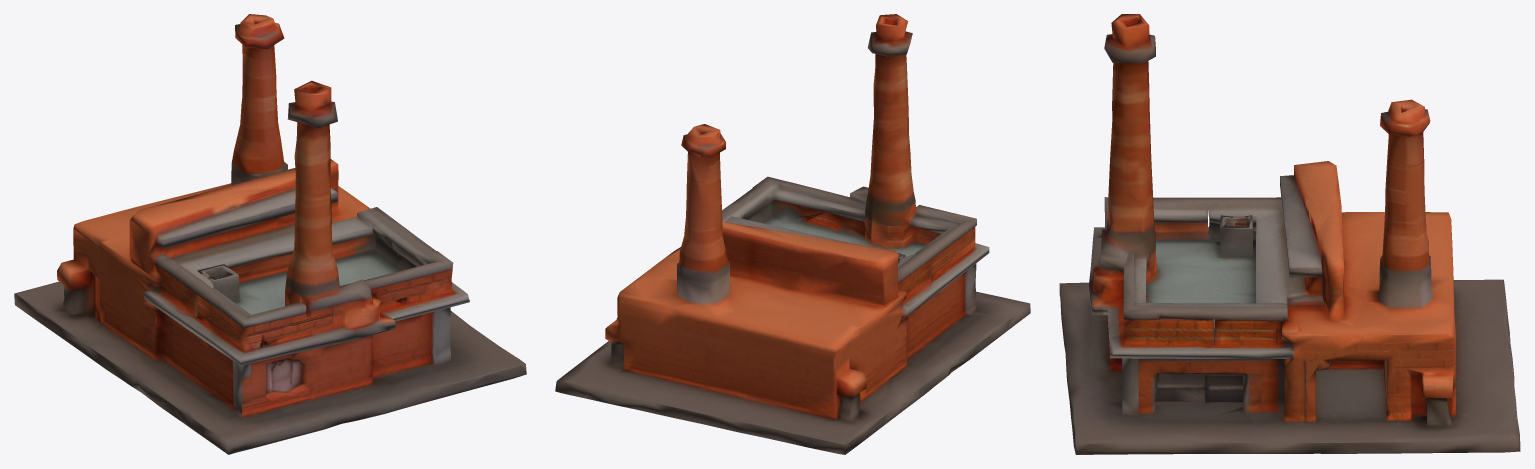
Rendered from factory.glb.
3 renders of one model, left to right at view 1: azimuth 30°, elevation 25°; view 2: azimuth 150°, elevation 25°; view 3: azimuth 270°, elevation 25°, orthographic. The views are drawn at different scales.
Parts seen in each view (by area): view 1: tripo_node_77632a1e-68fc-4ac0-a49f-bfc832eb652c; view 2: tripo_node_77632a1e-68fc-4ac0-a49f-bfc832eb652c; view 3: tripo_node_77632a1e-68fc-4ac0-a49f-bfc832eb652c.
Part boxes in pixels (box(x1,y1,x2,y2)): tripo_node_77632a1e-68fc-4ac0-a49f-bfc832eb652c: box(14, 14, 526, 454); tripo_node_77632a1e-68fc-4ac0-a49f-bfc832eb652c: box(555, 14, 1030, 454); tripo_node_77632a1e-68fc-4ac0-a49f-bfc832eb652c: box(1059, 14, 1520, 454).
Size of the model in its own units: 0.8398 by 0.8048 by 1.
1 material, 1 textured.
